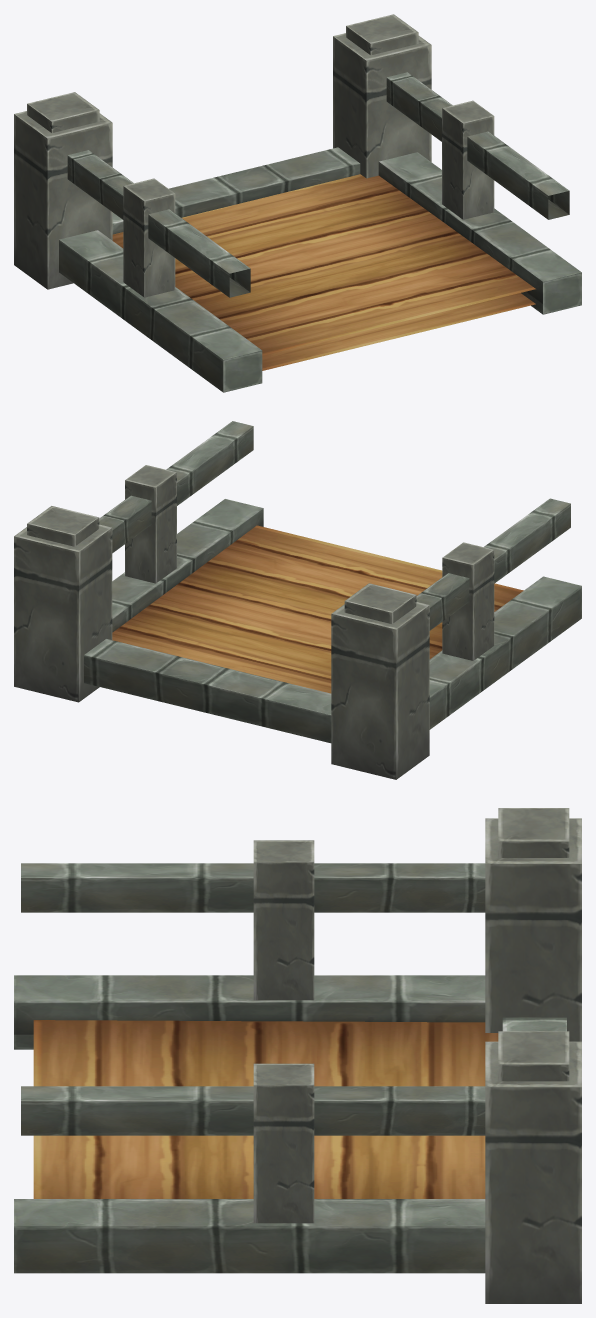
Rendered from bridge_03_tile_04.fbx.
3 views of the same model, one above another, from view 1: azimuth 30°, elevation 25°; view 2: azimuth 150°, elevation 25°; view 3: azimuth 270°, elevation 25° (orthographic). The views are drawn at different scales.
Visible parts, largest first — view 1: bridge_03_tile_04; view 2: bridge_03_tile_04; view 3: bridge_03_tile_04.
Boxes of the visible parts, bbox=[...] form: bridge_03_tile_04: bbox=[14, 14, 581, 392]; bridge_03_tile_04: bbox=[14, 421, 581, 779]; bridge_03_tile_04: bbox=[14, 808, 581, 1303].
Size of the model in its own units: 2.45 by 0.9898 by 2.19.
